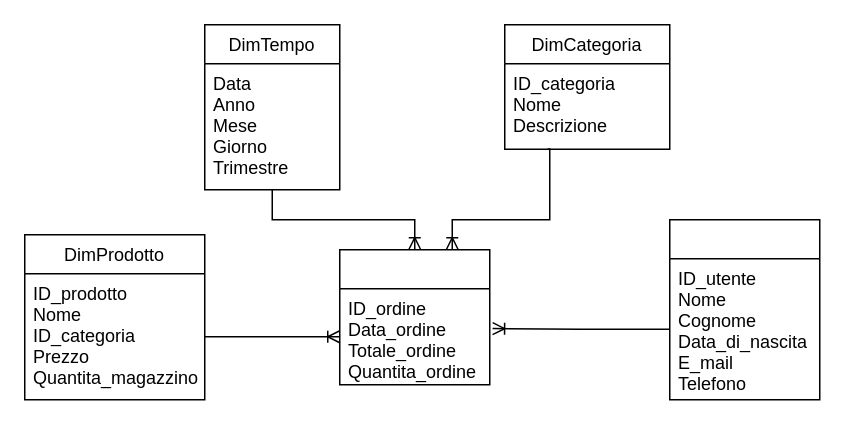
Image size: 845x425. Some labels were removed from this diagram. The box of each missing label's shape, as (x1, y1, x2, y2) in pixels:
DimUtente: (668, 218, 820, 400)
FattoVendite: (338, 248, 490, 385)
